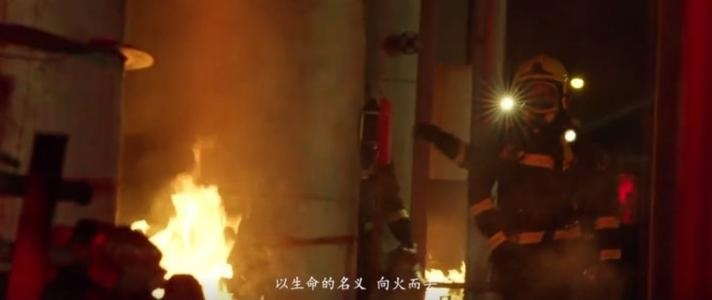fire: (134, 174, 241, 297), (423, 262, 466, 298)
